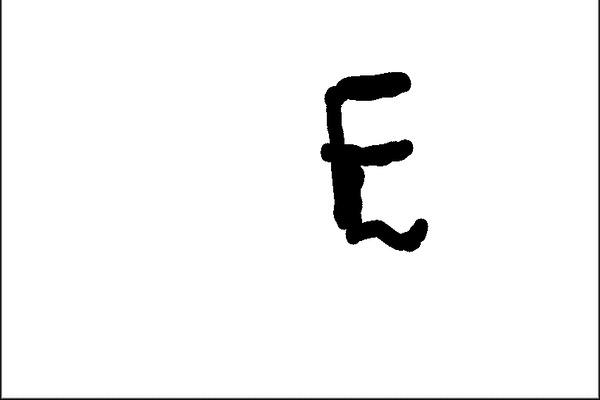E: (314, 68, 438, 254)
